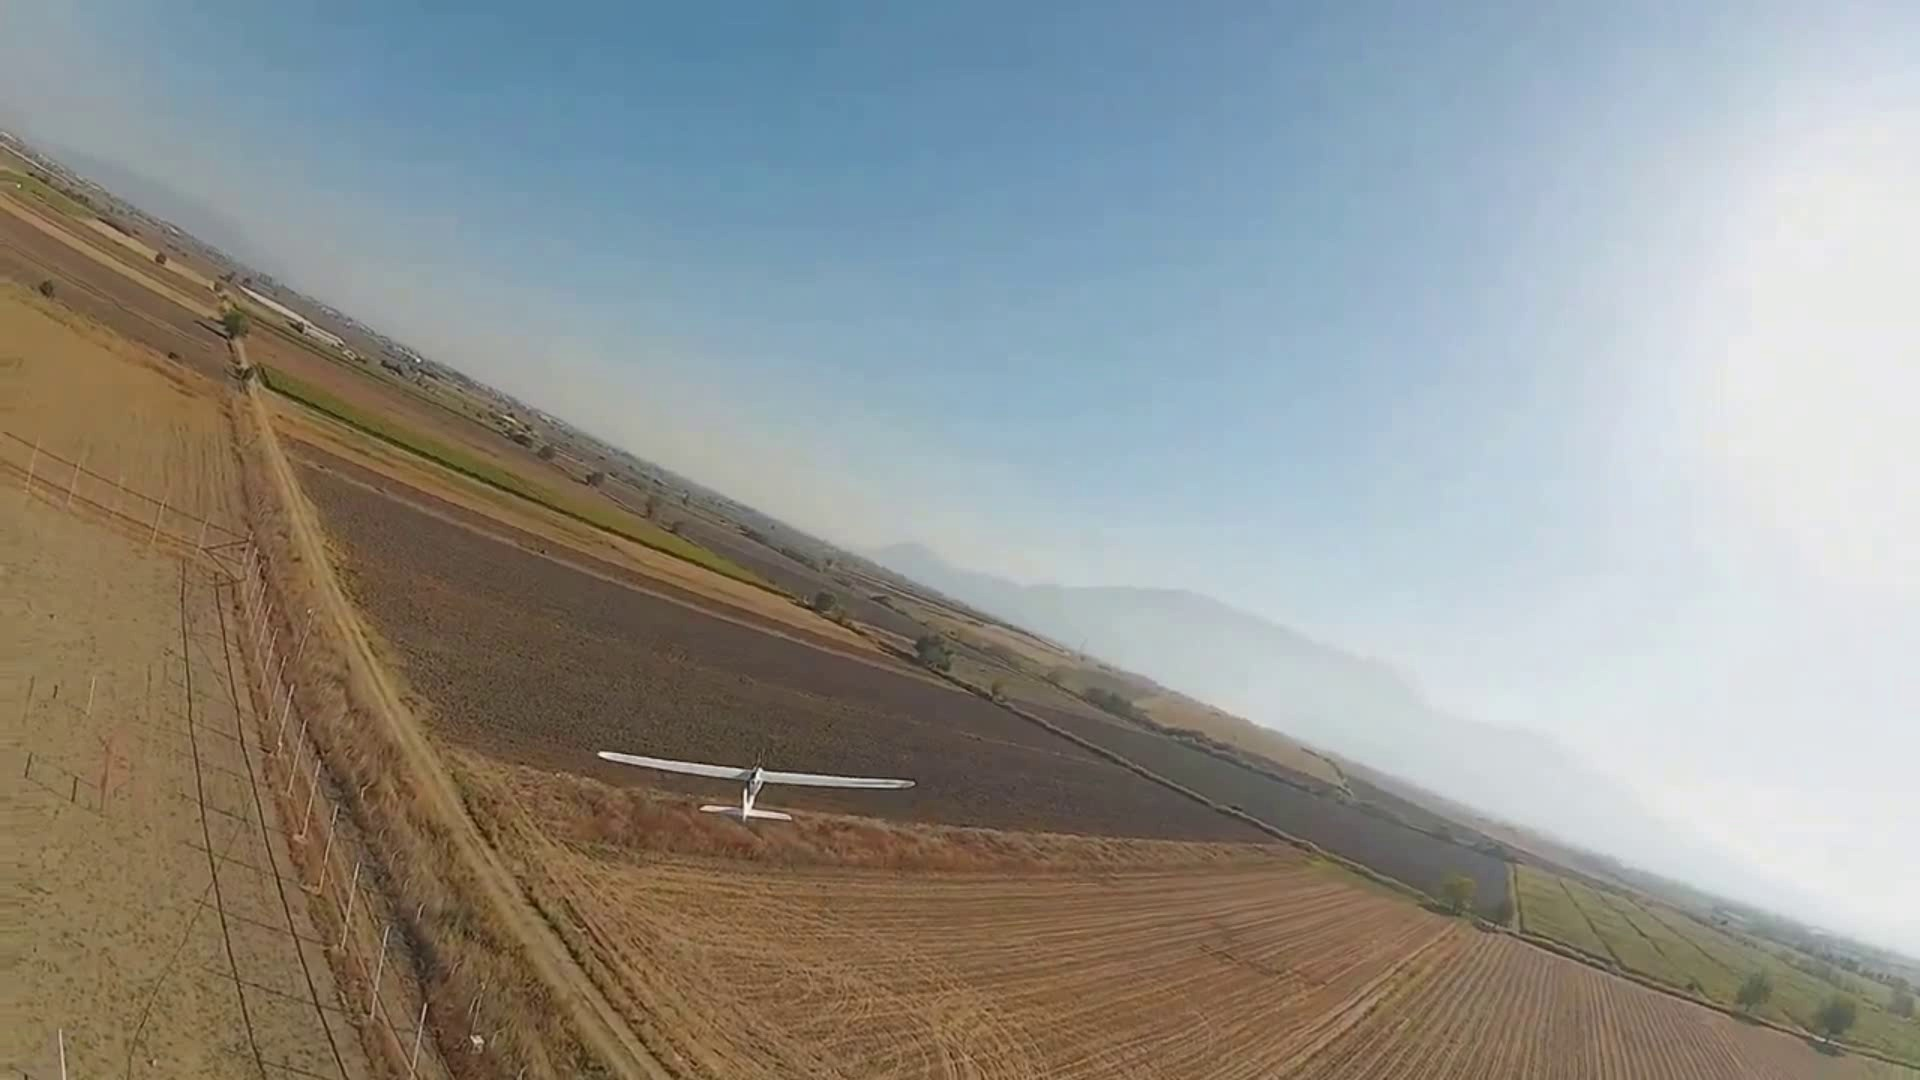airplane: (20, 206, 1916, 1030)
